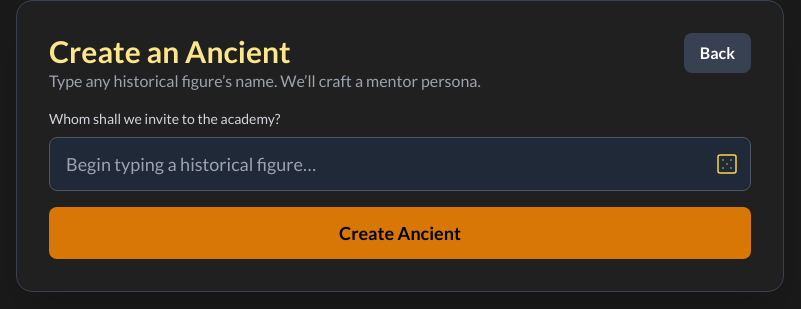
CharacterCreator › selects a random character when the randomize button is clicked
Click the button named "Roll the dice for a random historical figure" at (727, 164), box x1=703 y1=137 x2=751 y2=191
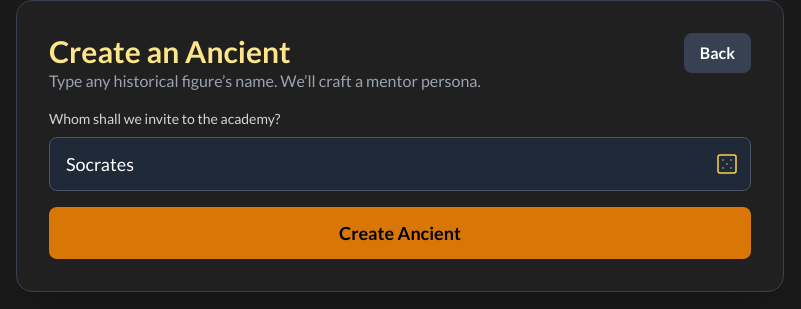
Expected: the field with placeholder "Begin typing a historical figure…" is not empty, x1=49 y1=137 x2=751 y2=191
